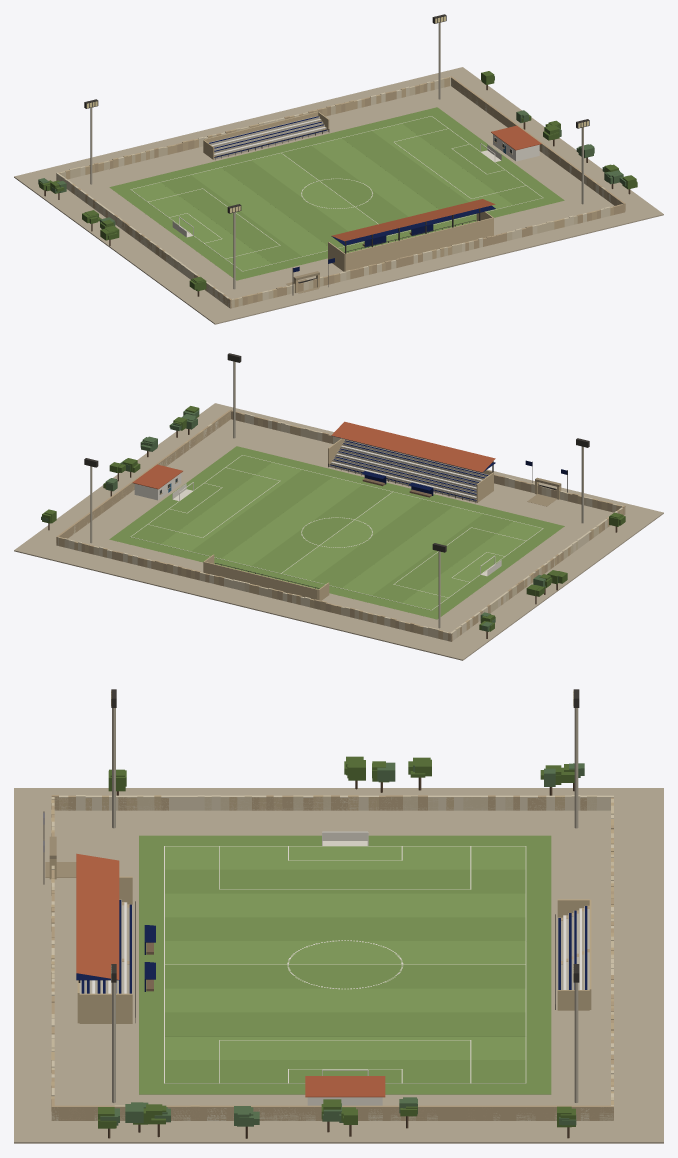
The model's file is dirlik-stadi.glb.
The picture shows the model from 3 angles, top to bottom: view 1: azimuth 30°, elevation 25°; view 2: azimuth 150°, elevation 25°; view 3: azimuth 270°, elevation 25°; orthographic projection. The views are drawn at different scales.
Visible parts, largest first — view 1: zemin, cim, cim2, tas2, tas3, tas4, kiremit1, beton2, tas1, lacivert, asma2, cizgi (+4 smaller); view 2: zemin, cim, cim2, tas2, tas3, kiremit1, beton2, beton, tas4, lacivert, tas1, cizgi (+5 smaller); view 3: zemin, cim, cim2, tas3, kiremit1, tas2, tas4, asma2, beton2, cizgi, tas1, zeytin (+4 smaller).
Part boxes in pixels (<box>): zemin: <box>14,67,663,324</box>; cim: <box>109,107,564,280</box>; cim2: <box>131,123,513,271</box>; tas2: <box>65,77,619,307</box>; tas3: <box>56,76,625,308</box>; tas4: <box>56,76,625,307</box>; kiremit1: <box>331,125,541,241</box>; beton2: <box>90,22,583,289</box>; tas1: <box>60,78,605,308</box>; lacivert: <box>209,116,495,272</box>; asma2: <box>39,71,637,291</box>; cizgi: <box>130,116,543,271</box>; zemin: <box>14,403,663,660</box>; cim: <box>109,446,564,619</box>; cim2: <box>160,462,543,610</box>; tas2: <box>58,412,623,639</box>; tas3: <box>56,409,625,641</box>; kiremit1: <box>132,421,495,489</box>; beton2: <box>90,361,583,628</box>; beton: <box>330,440,488,499</box>; tas4: <box>56,410,622,640</box>; lacivert: <box>330,435,567,500</box>; tas1: <box>64,422,625,640</box>; cizgi: <box>130,455,543,610</box>; zemin: <box>14,788,663,1143</box>; cim: <box>139,835,551,1094</box>; cim2: <box>165,846,525,1059</box>; tas3: <box>51,795,613,1120</box>; kiremit1: <box>76,853,385,1097</box>; tas2: <box>49,795,613,1120</box>; tas4: <box>51,795,613,1120</box>; asma2: <box>98,756,575,1128</box>; beton2: <box>85,708,584,1102</box>; cizgi: <box>164,831,526,1083</box>; tas1: <box>51,795,613,1120</box>; zeytin: <box>100,762,584,1126</box>.
Size of the model in its own units: 136 by 23.9 by 104.
